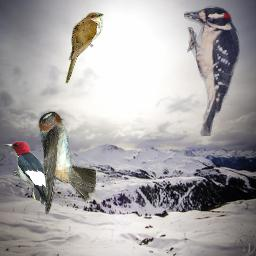Cuckoo: (65, 12, 104, 84)
Swallow: (38, 111, 96, 215)
Woodpecker: (184, 4, 242, 136), (2, 141, 51, 205)
